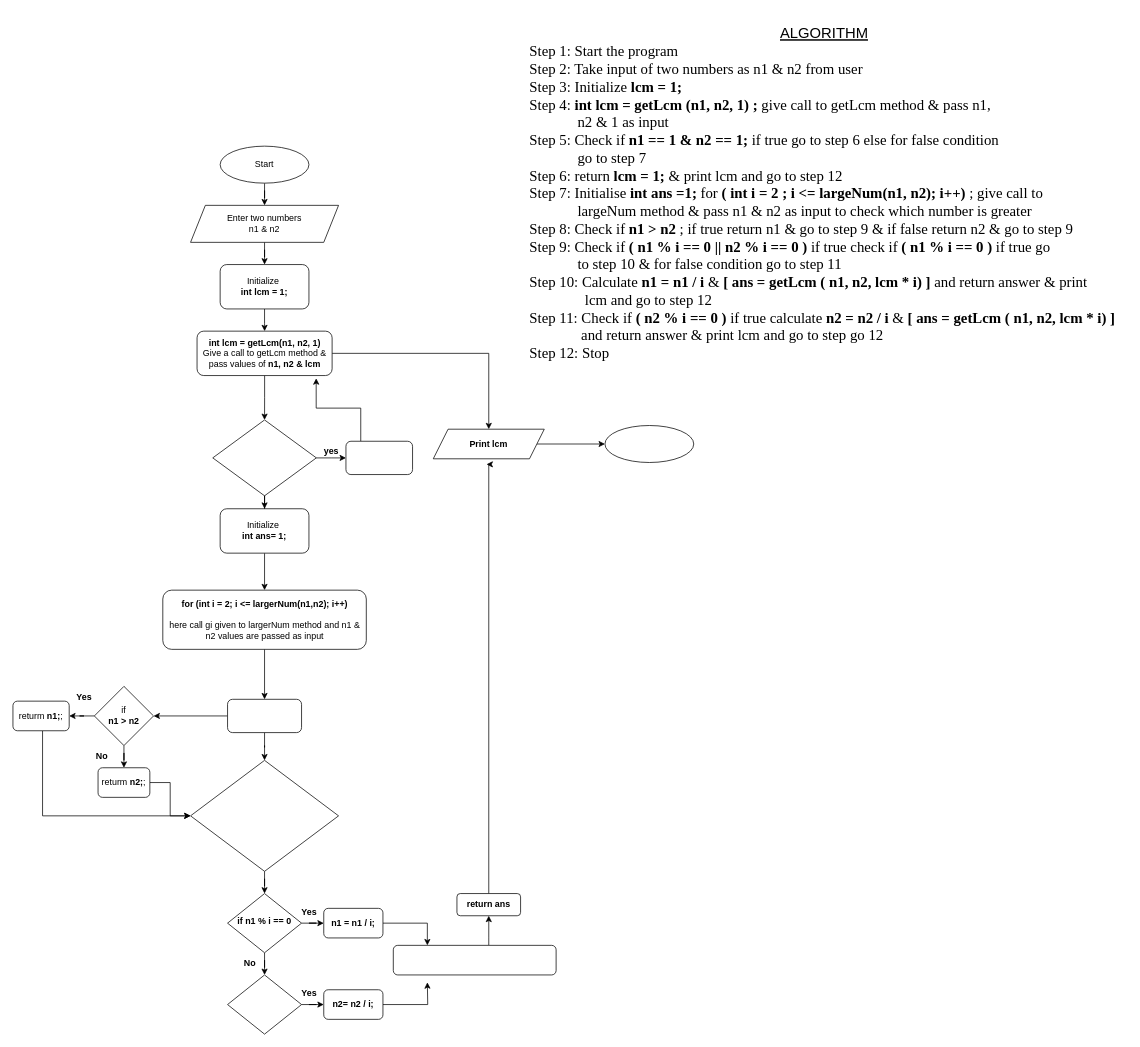
Image size: 1140x1047. Some labels were removed from this diagram. Here are the shapes that lost their labels. From the top down, the centre of each, then its label:
At (x=264, y=457): "Check if n1==1 & n2==1".
At (x=379, y=458): "return lcm".
At (x=649, y=443): "Stop".
At (x=264, y=716): "LargeNum (int n1, int n2)".
At (x=264, y=815): "Check if n1 % i == 0 || n2 % i == 0".
At (x=474, y=960): "ans = getLcm(n1,n2, lcm * i )".
At (x=264, y=1004): "if n2 % i == 0".
